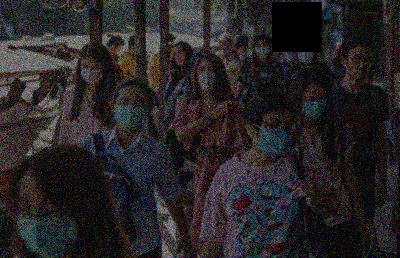with_mask: (15, 192, 80, 255), (255, 116, 294, 158), (113, 95, 148, 130), (301, 93, 328, 120), (80, 62, 103, 85), (197, 64, 216, 91), (297, 46, 314, 64), (174, 47, 187, 66), (256, 42, 270, 58), (227, 56, 240, 70), (284, 49, 297, 62), (238, 48, 248, 60)
without_mask: (346, 53, 372, 81)
